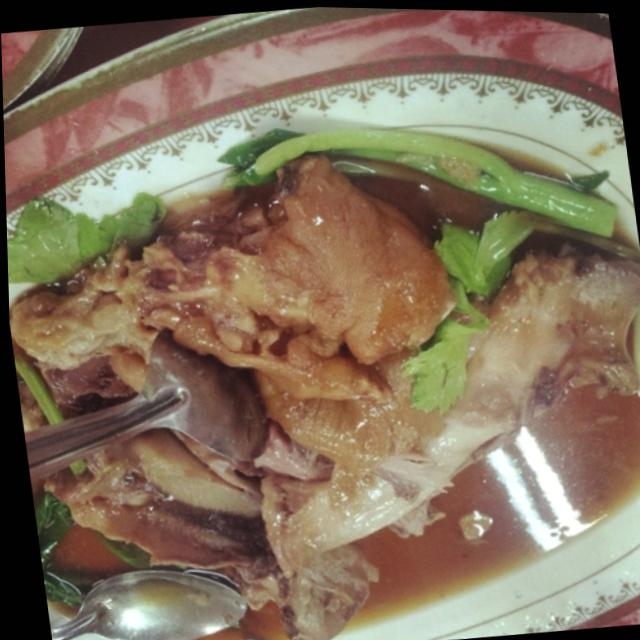猪肉菜式: (27, 91, 640, 640)
